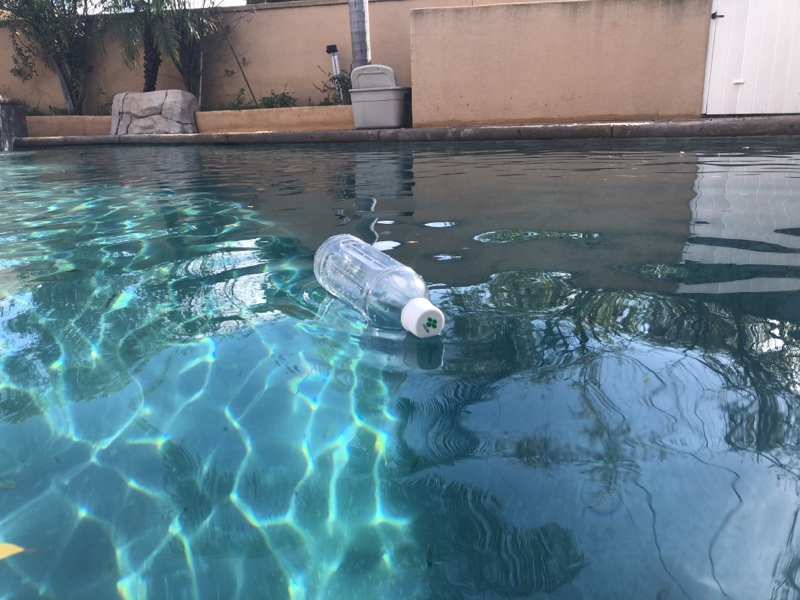Plastic Bottle: (309, 232, 447, 342)
